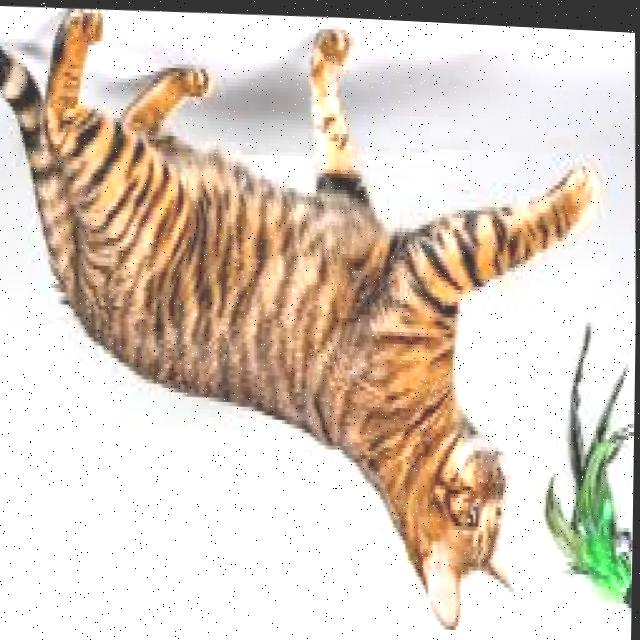Toyger: (0, 0, 613, 640)
